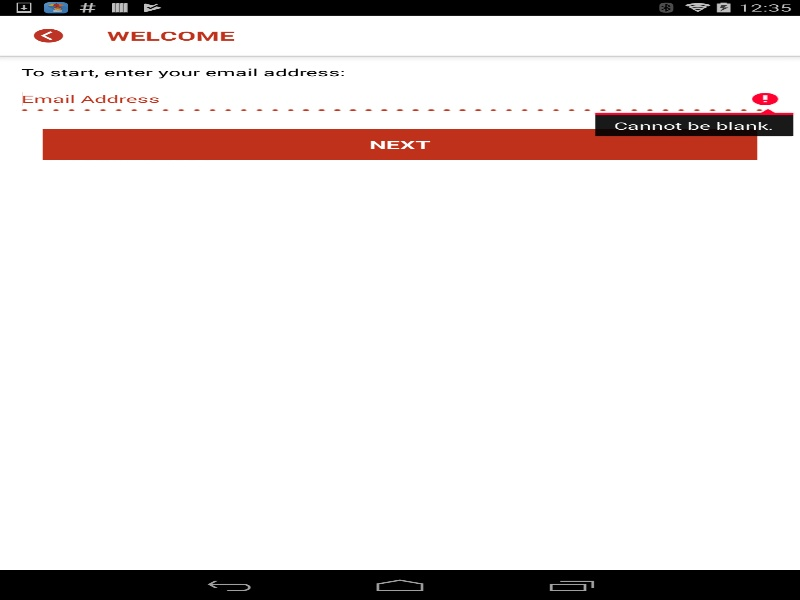Button: (42, 129, 757, 160), (10, 15, 85, 55)
Input: (21, 84, 778, 114)
